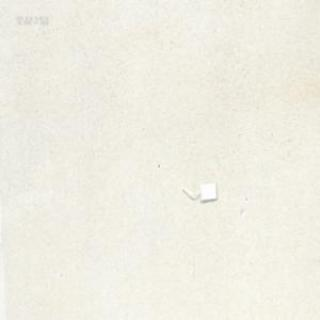LuggageTagtrack_idkeyframe: (180, 180, 216, 200)
